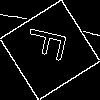F: (25, 25, 76, 65)
